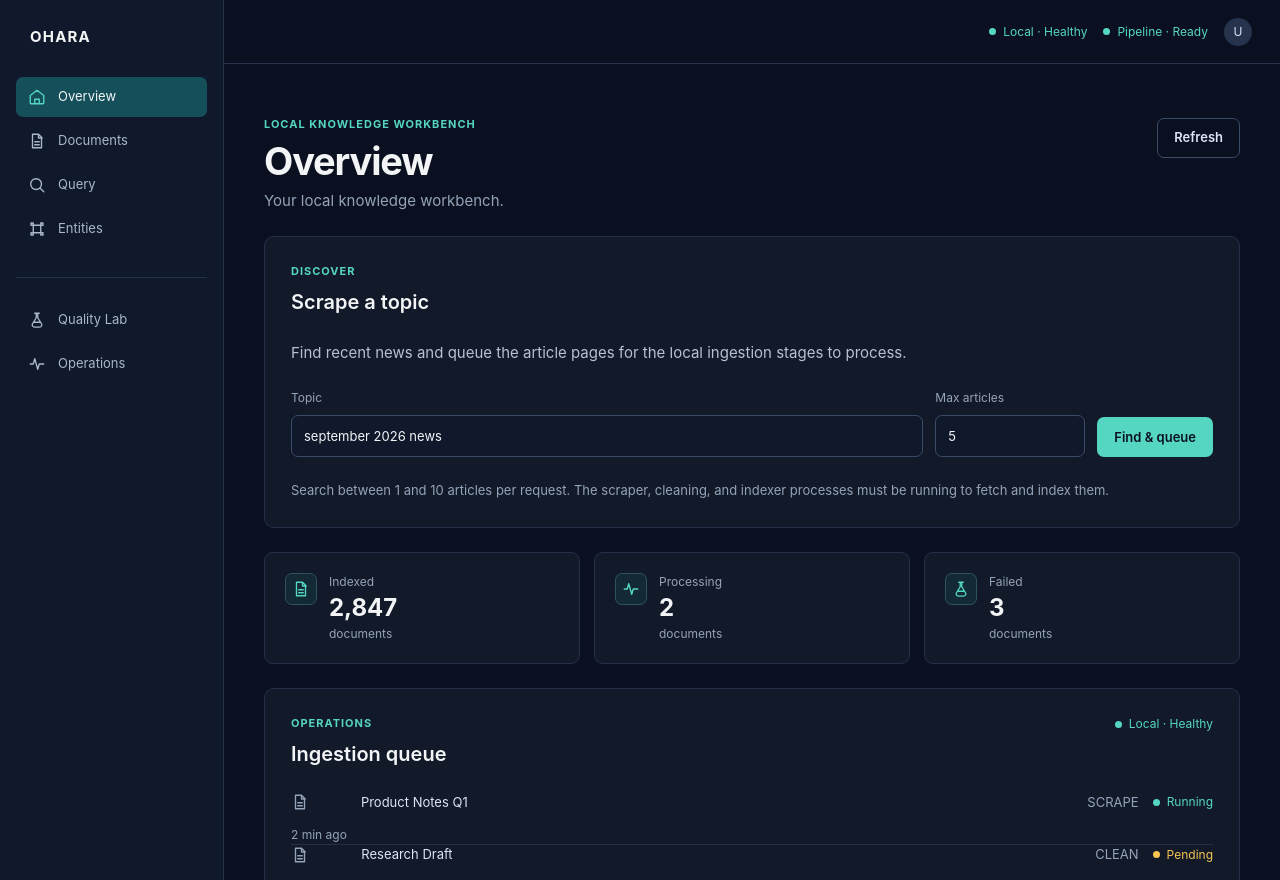
Test case: App shell › finds and queues a topic from the overview
Replace the text in the number field labelled "Max articles" with "2" at (1010, 436), box [935,415,1085,457]
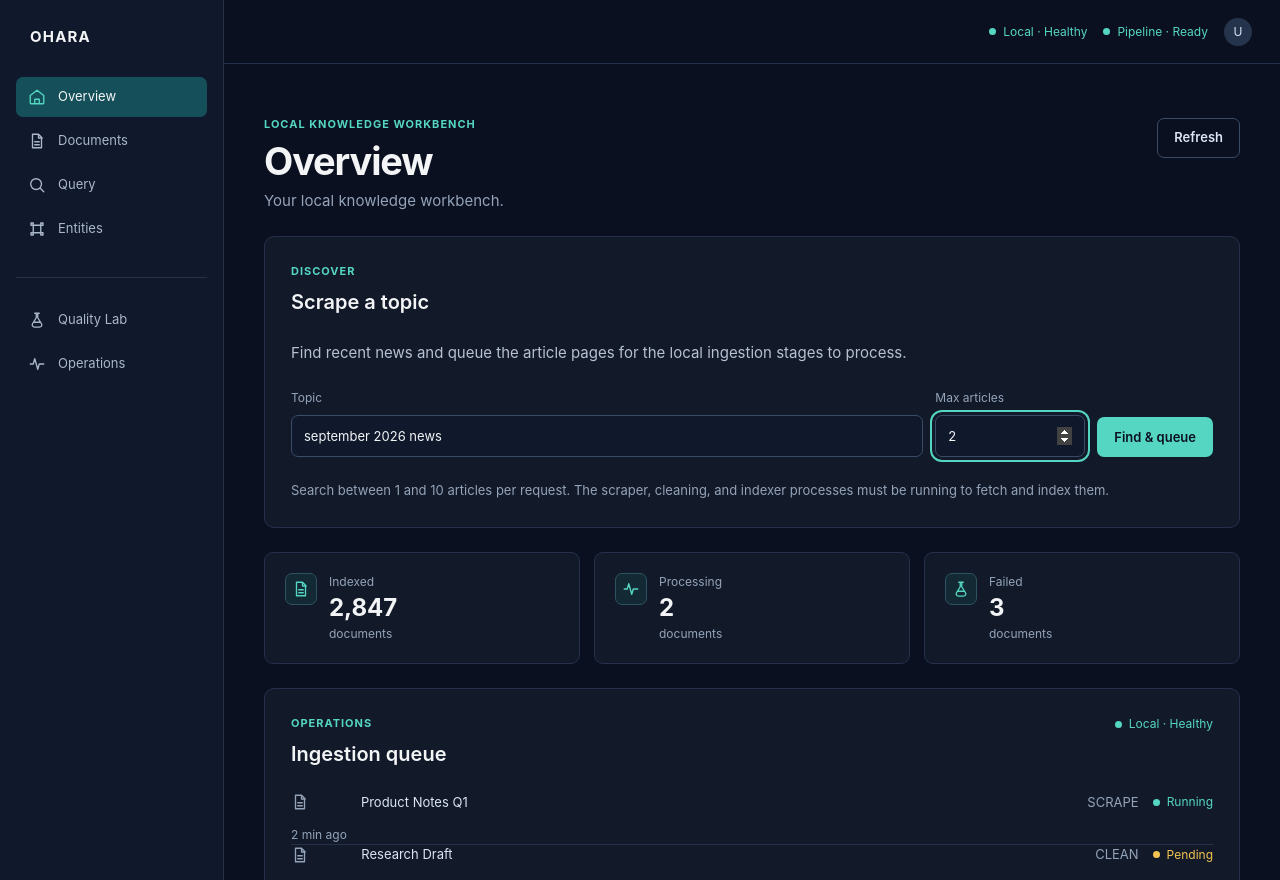
Click the button "Find & queue".
click(1155, 437)  # box [1097,417,1213,457]
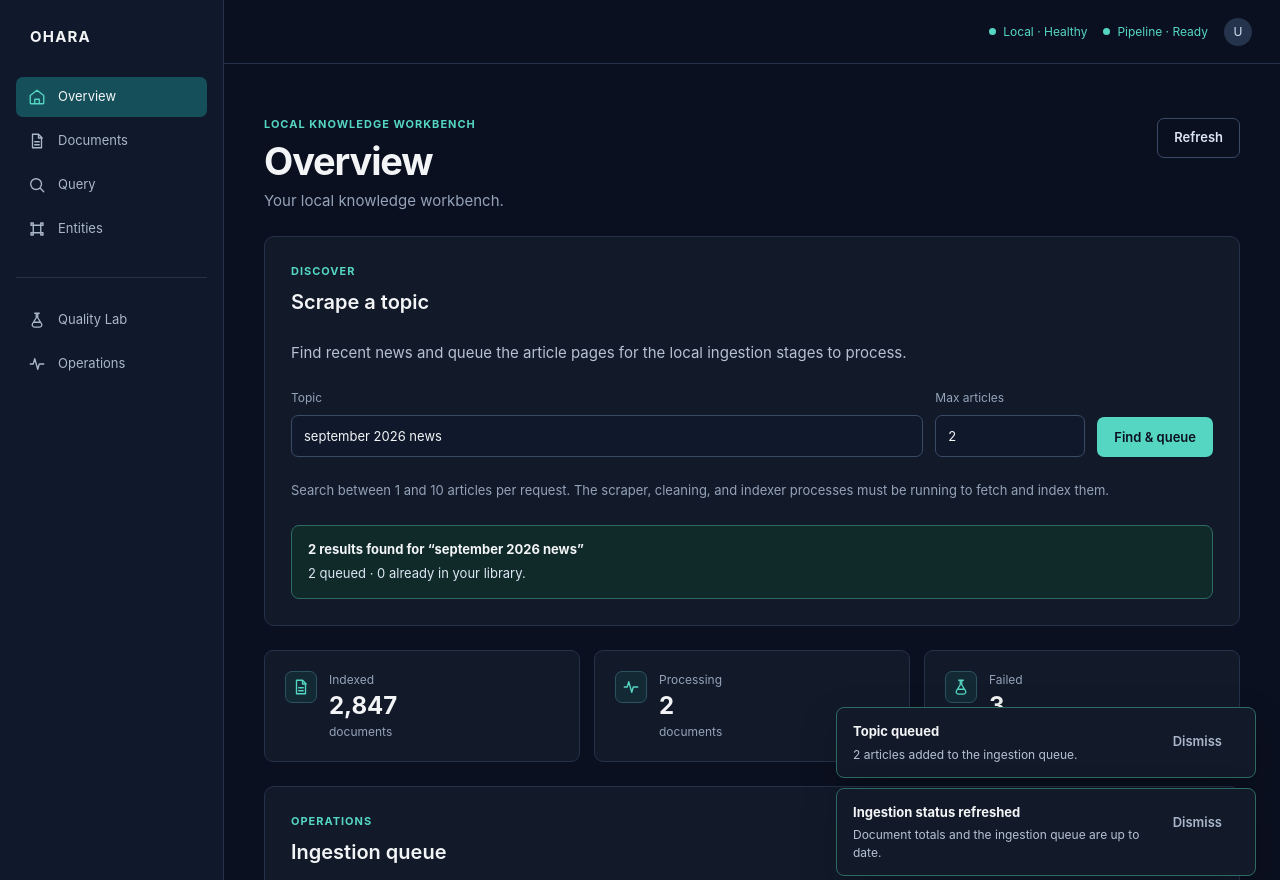
Check: the text "2 results found for “september 2026 news”" is shown, box [308,541,584,557]
Check: the text "2 queued · 0 already in your library." is shown, box [308,565,526,581]
Check: the text "Topic queued" is shown, box [853,723,939,739]
